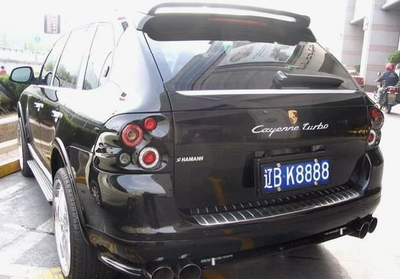plate_number: (259, 159, 332, 191)
